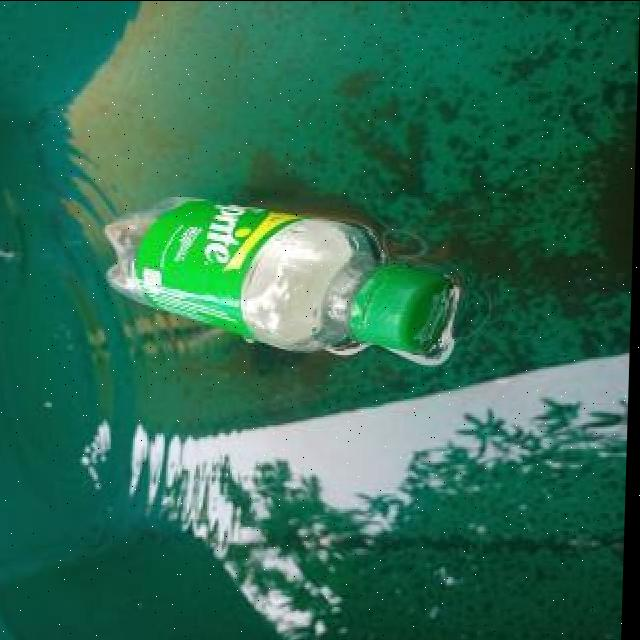bottle: (91, 192, 461, 358)
